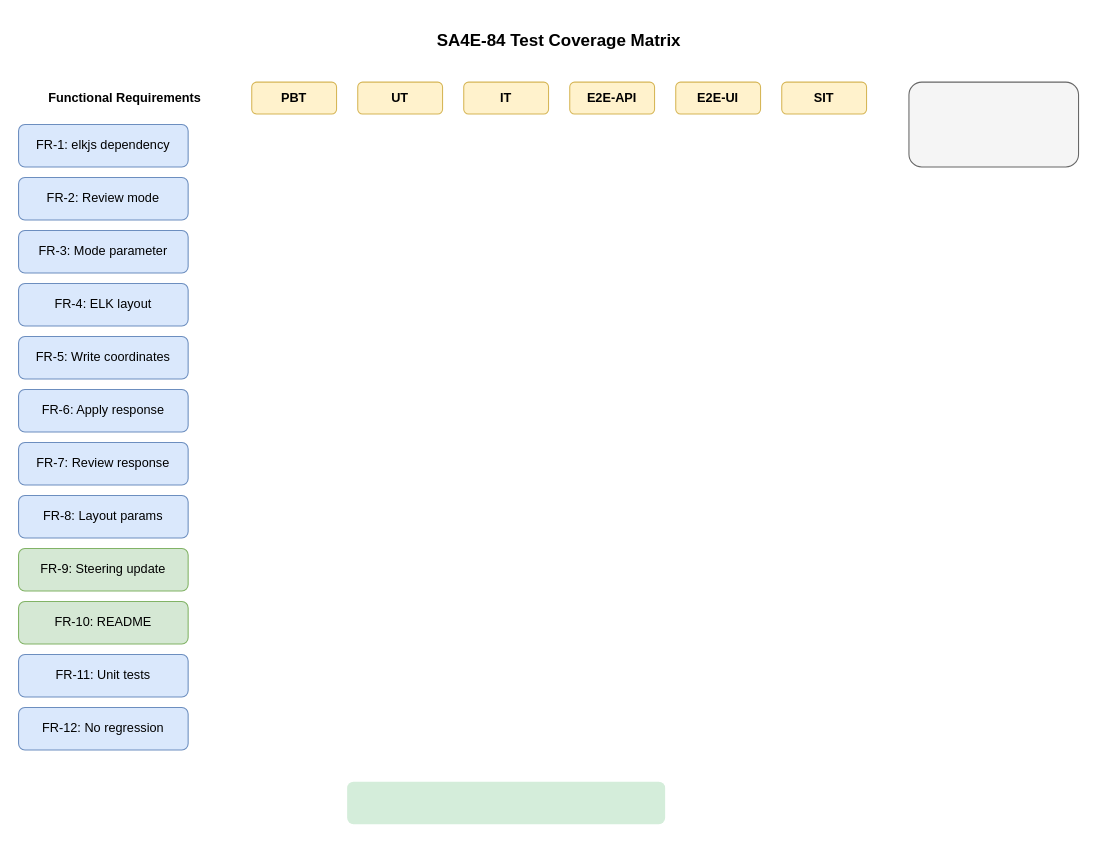
Image size: 1097x842. Some labels were removed from this diagram. Each missing label, with the box of its shape:
Legend: Blue = MUST HAVE Green = SHOULD/COULD Yellow = Test Level: (908, 81, 1079, 167)
RTM Coverage: 12/12 FR = 100%: (347, 781, 665, 824)
